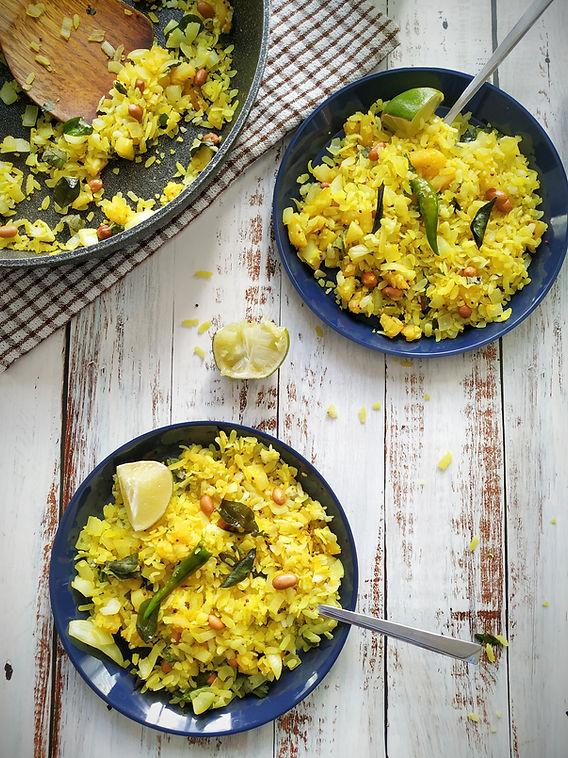poha: (61, 441, 322, 707), (277, 87, 551, 335), (0, 26, 251, 271)
